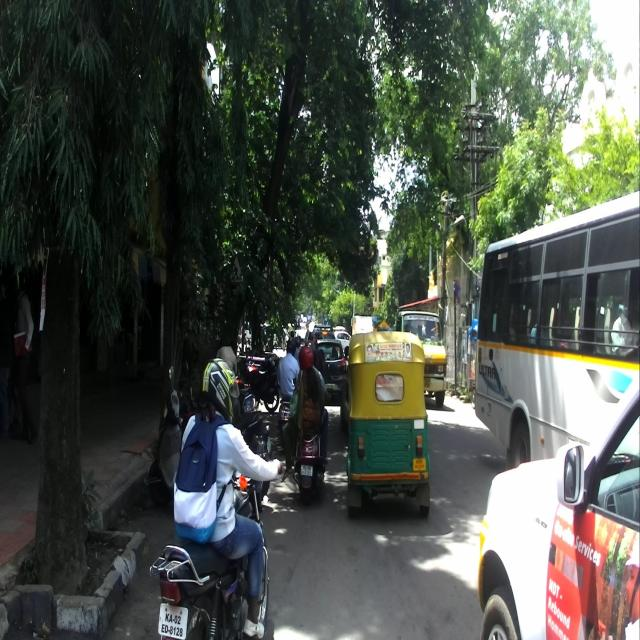autorickshaw: (343, 329, 430, 521)
bus: (472, 191, 640, 473)
motorcycle: (149, 455, 276, 640)
scooter: (291, 376, 331, 508)
truck: (398, 310, 445, 402)
